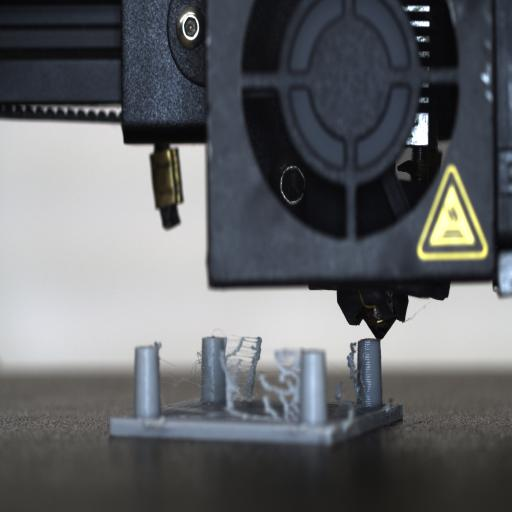stringing: (228, 331, 301, 424)
